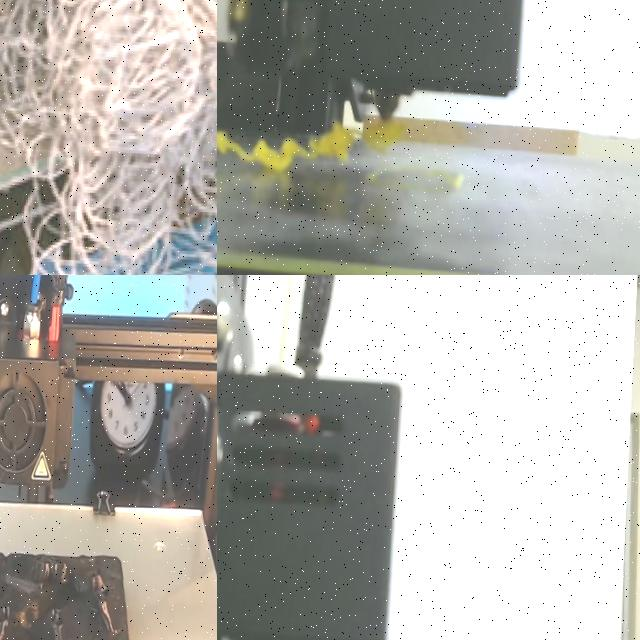spaghetti: (217, 122, 356, 172), (362, 119, 404, 152)
